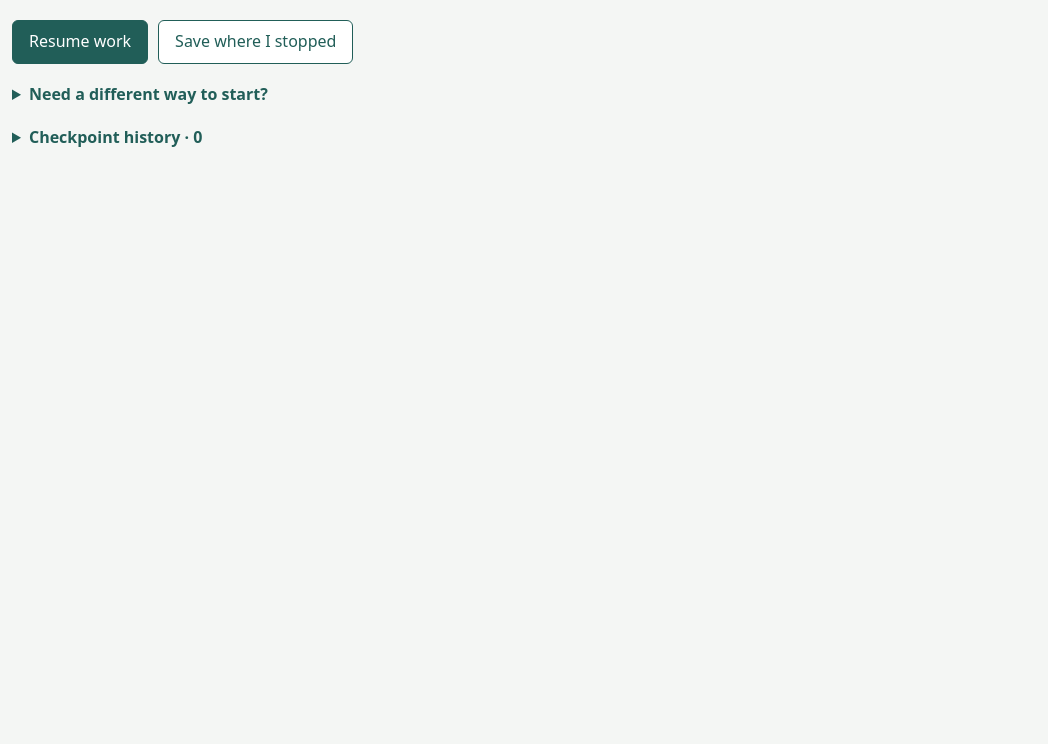
daily work checkpoint › finds an already committed checkpoint after an ambiguous response without sending another save
Click the button "Save where I stopped" at x=256, y=42, box [158,20,353,64]
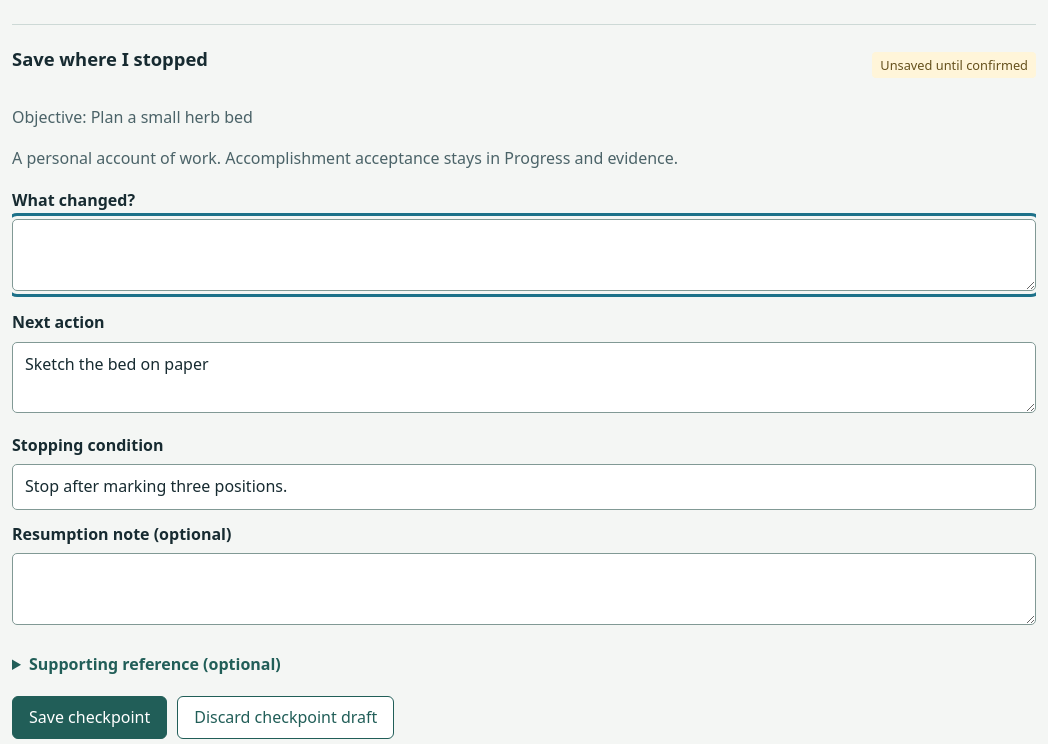
Type "Marked the first position." into the text box labelled "What changed?" at x=524, y=255, box [12,219,1036,291]
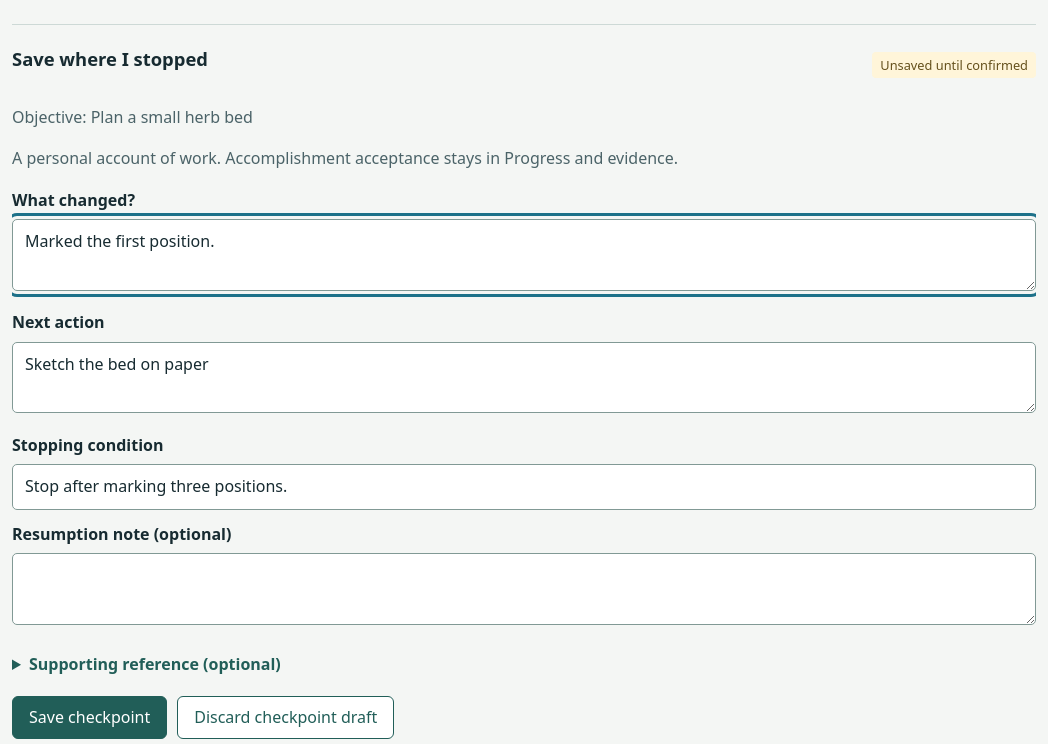
Click the button "Save checkpoint" at x=90, y=718, box [12,696,167,739]
(page scrolled)
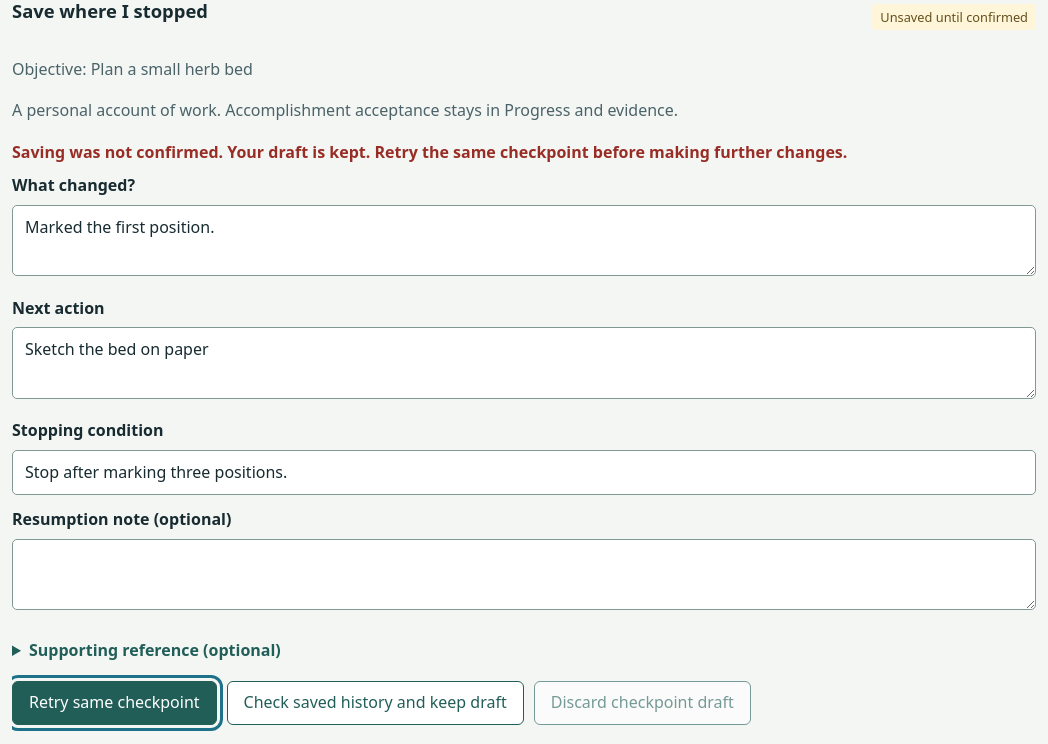
Click the button "Check saved history and keep draft" at x=375, y=703, box [227,681,524,725]
(page scrolled)
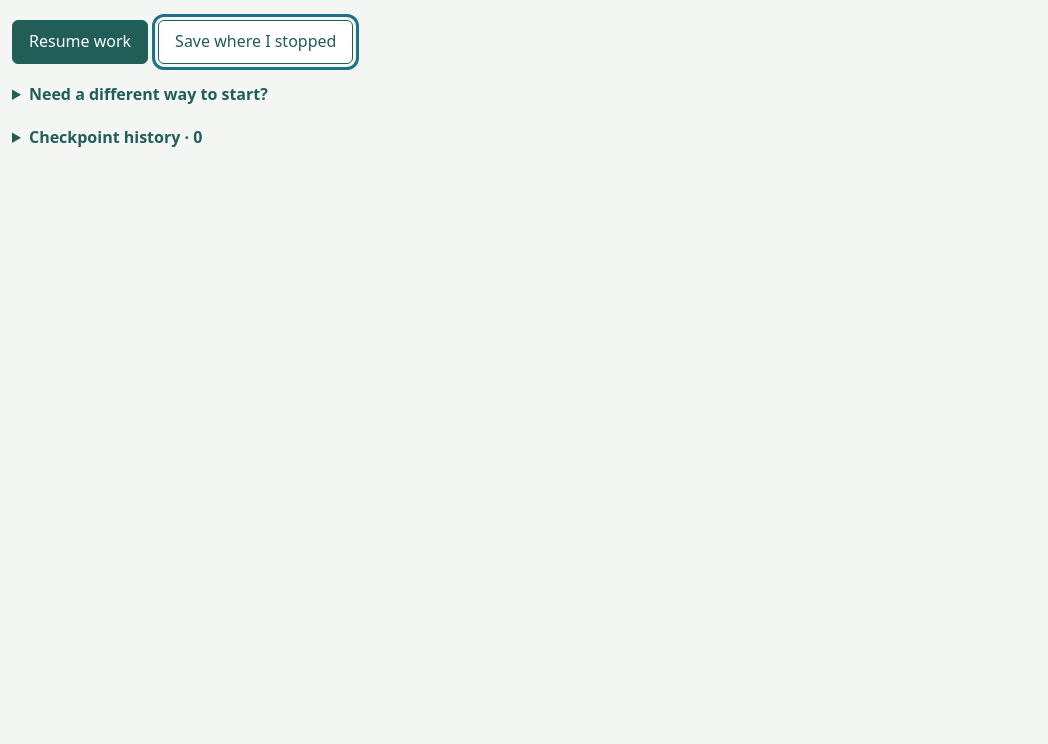
Result: the label labelled "What changed?" is gone
